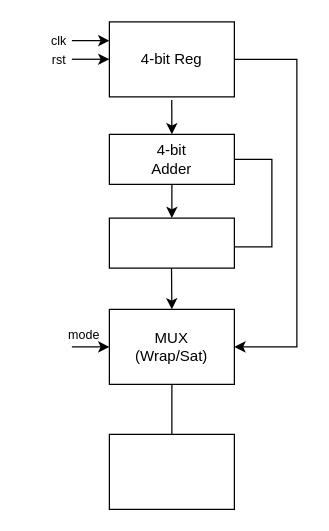
Image size: 329x531. Some labels were removed from this diagram. Each missing label, with the centre of its shape:
Comparator: the point at 171,242
Output count Output carry: the point at 171,471
